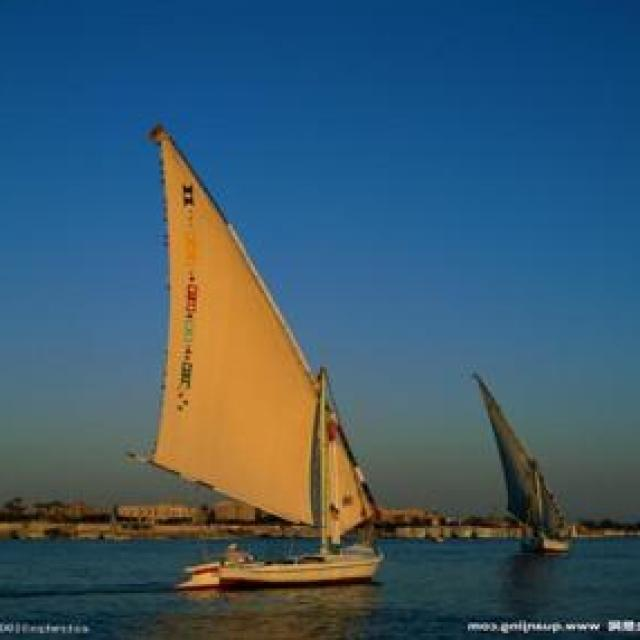sailboat: (130, 121, 387, 589), (470, 368, 582, 552)
